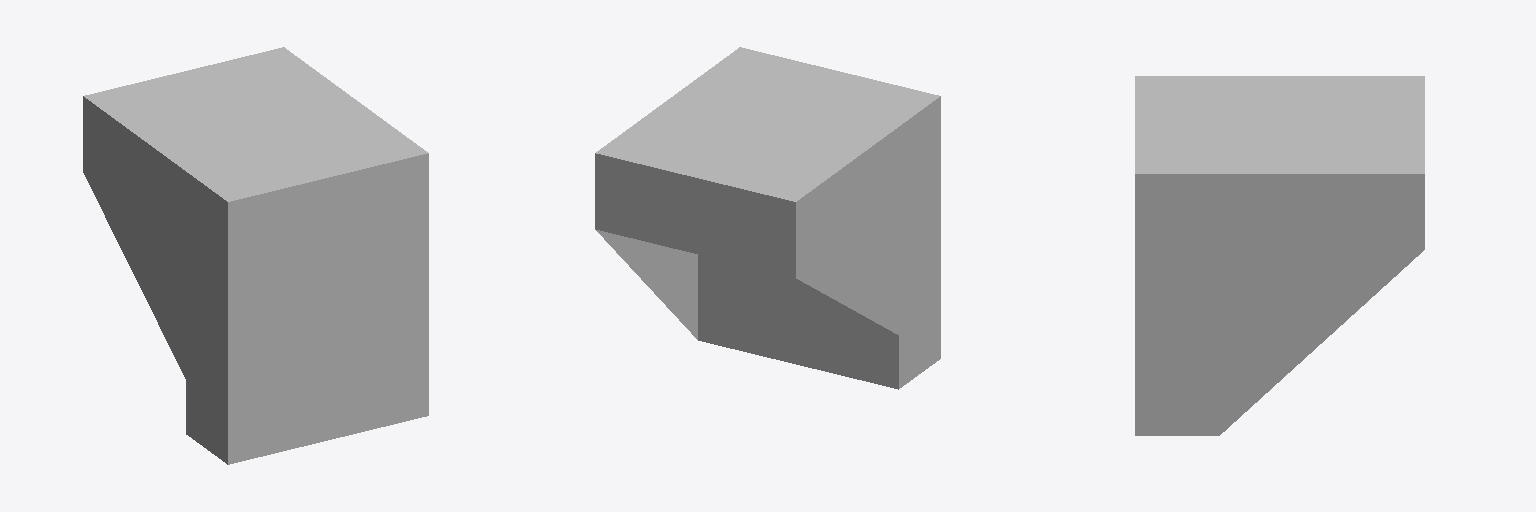
The model's file is lshape.obj.
3 views of the same model, side by side, from view 1: azimuth 30°, elevation 25°; view 2: azimuth 150°, elevation 25°; view 3: azimuth 270°, elevation 25° (orthographic).
Visible parts, largest first — view 1: Cube_Cube.002; view 2: Cube_Cube.002; view 3: Cube_Cube.002.
Boxes of the visible parts, x1=… form: Cube_Cube.002: x1=83, y1=47, x2=428, y2=464; Cube_Cube.002: x1=595, y1=47, x2=940, y2=389; Cube_Cube.002: x1=1135, y1=76, x2=1424, y2=435.
Size of the model in its own units: 1.6 by 2 by 2.